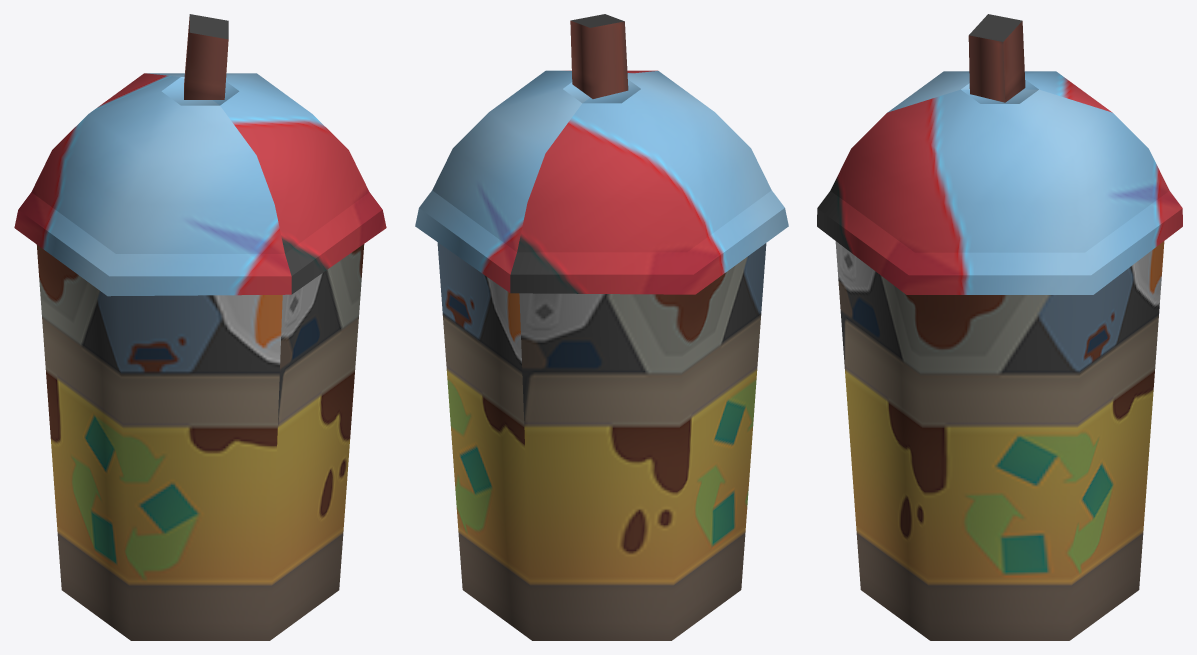
Rendered from Trash_BubbleTeaCup.fbx.
3 views of the same model, side by side, from view 1: azimuth 30°, elevation 25°; view 2: azimuth 150°, elevation 25°; view 3: azimuth 270°, elevation 25° (orthographic).
Visible parts, largest first — view 1: Trash_BubbleTeaCup; view 2: Trash_BubbleTeaCup; view 3: Trash_BubbleTeaCup.
Boxes of the visible parts, left/top/right/bottom form: Trash_BubbleTeaCup: left=14, top=14, right=386, bottom=640; Trash_BubbleTeaCup: left=415, top=14, right=788, bottom=640; Trash_BubbleTeaCup: left=817, top=14, right=1182, bottom=640.
Bounding box in the file's own units: 46.18 × 89.76 × 52.23.
